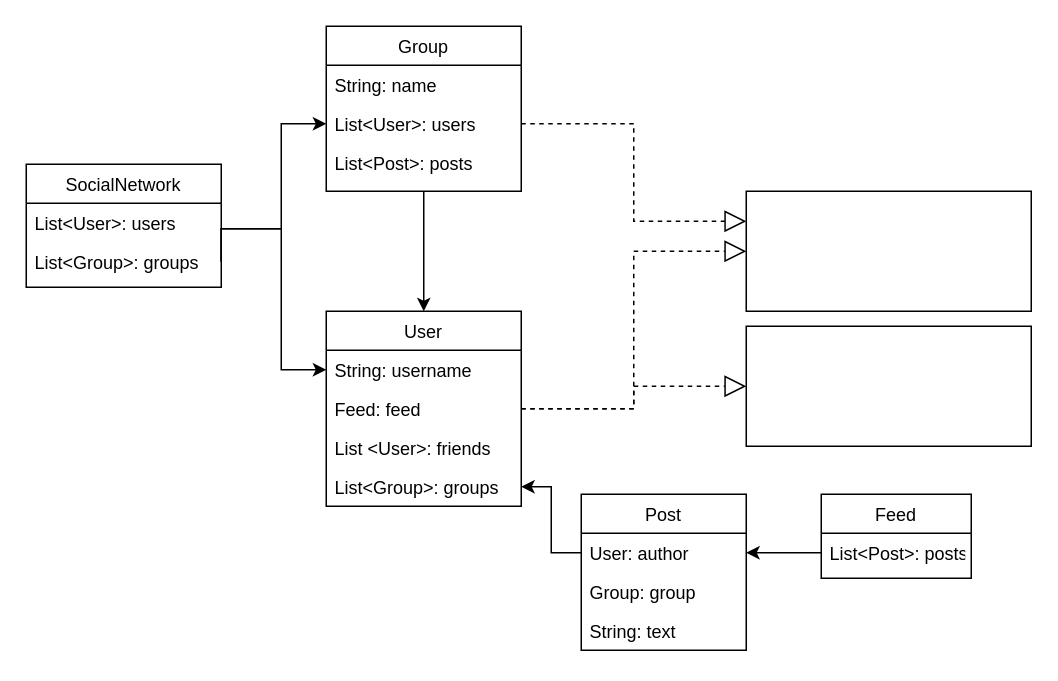
Image size: 1058x681. Some labels were removed from this diagram. Each missing label, with the centre of its shape:
<<Interface>> Observable addFriend(User user): void notifyFriend(T data): void: pixel 888 250
<<Interface>> Observer<T> onMessage(T message): void: pixel 888 385
